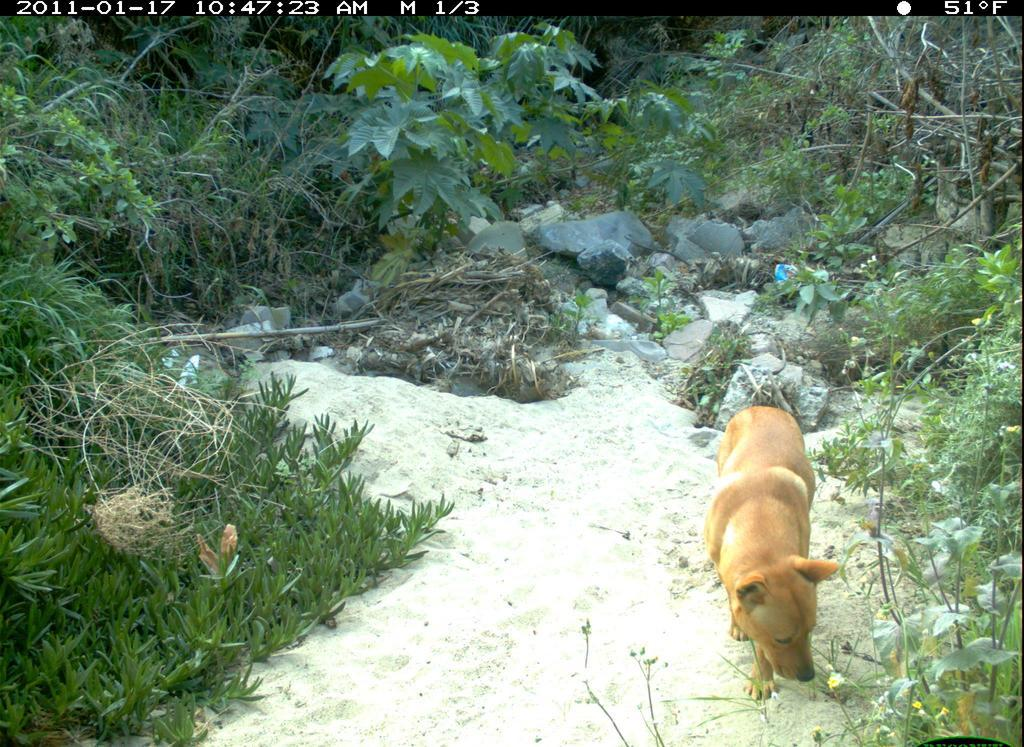dog: (687, 393, 859, 702)
